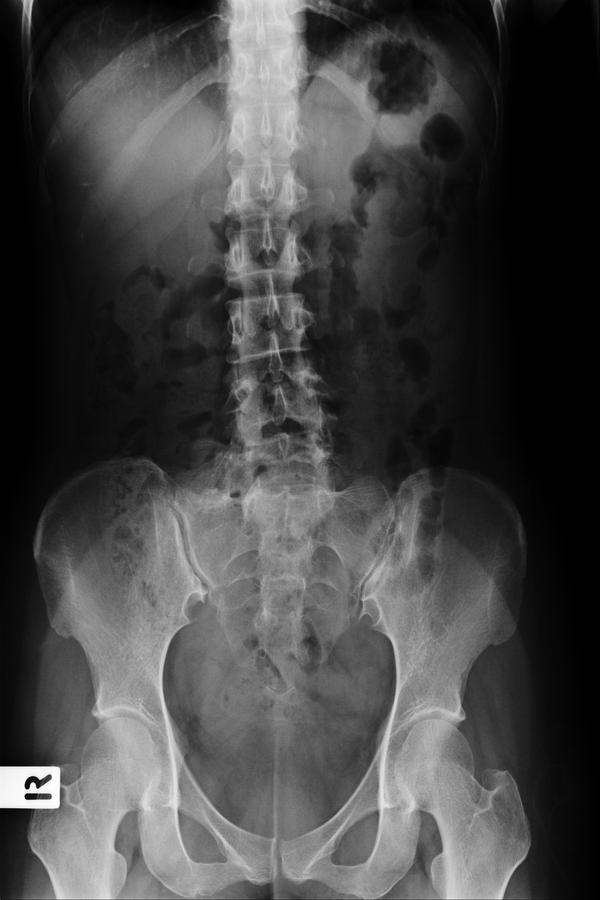lumbar scoliosis: (221, 142, 354, 498)
